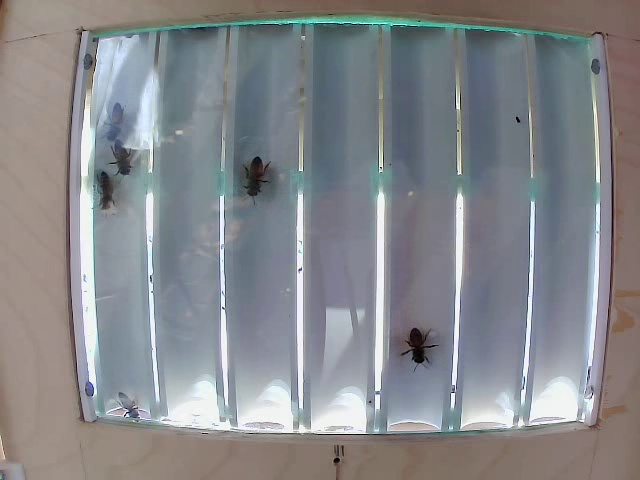bee: (398, 327, 444, 379), (98, 102, 139, 145), (241, 149, 276, 194), (99, 169, 123, 207), (101, 143, 130, 169)
